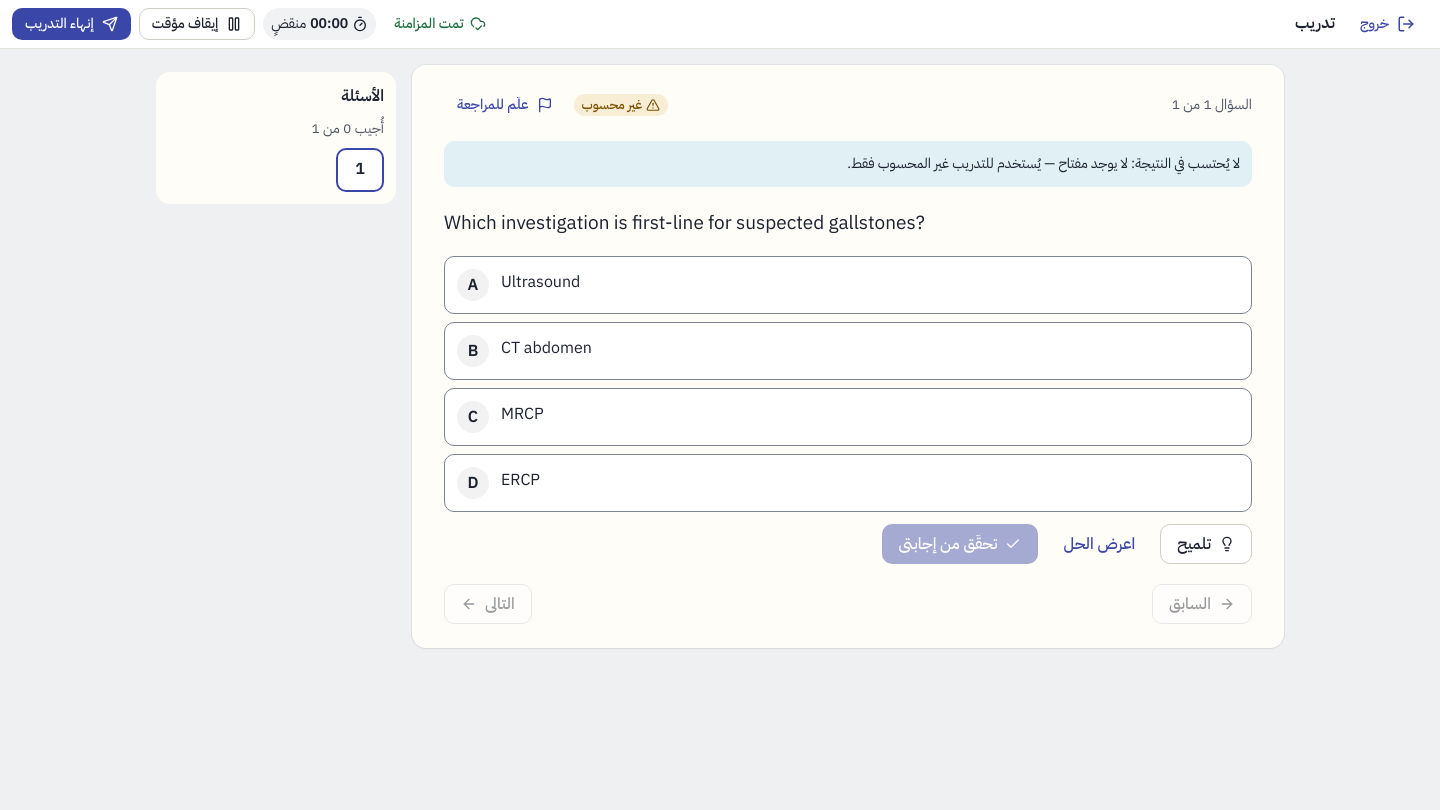
Scenario: checking a practice answer asks for its feedback once (the POST) — no racing GET; an unscored item says «غير محسوب»
This screenshot has width=1440, height=810.
What coordinates should you click on to do the following:
click the radio button labelled "A Ultrasound"
I would click on:
 (473, 285)
Its box is x1=444 y1=256 x2=1252 y2=314.
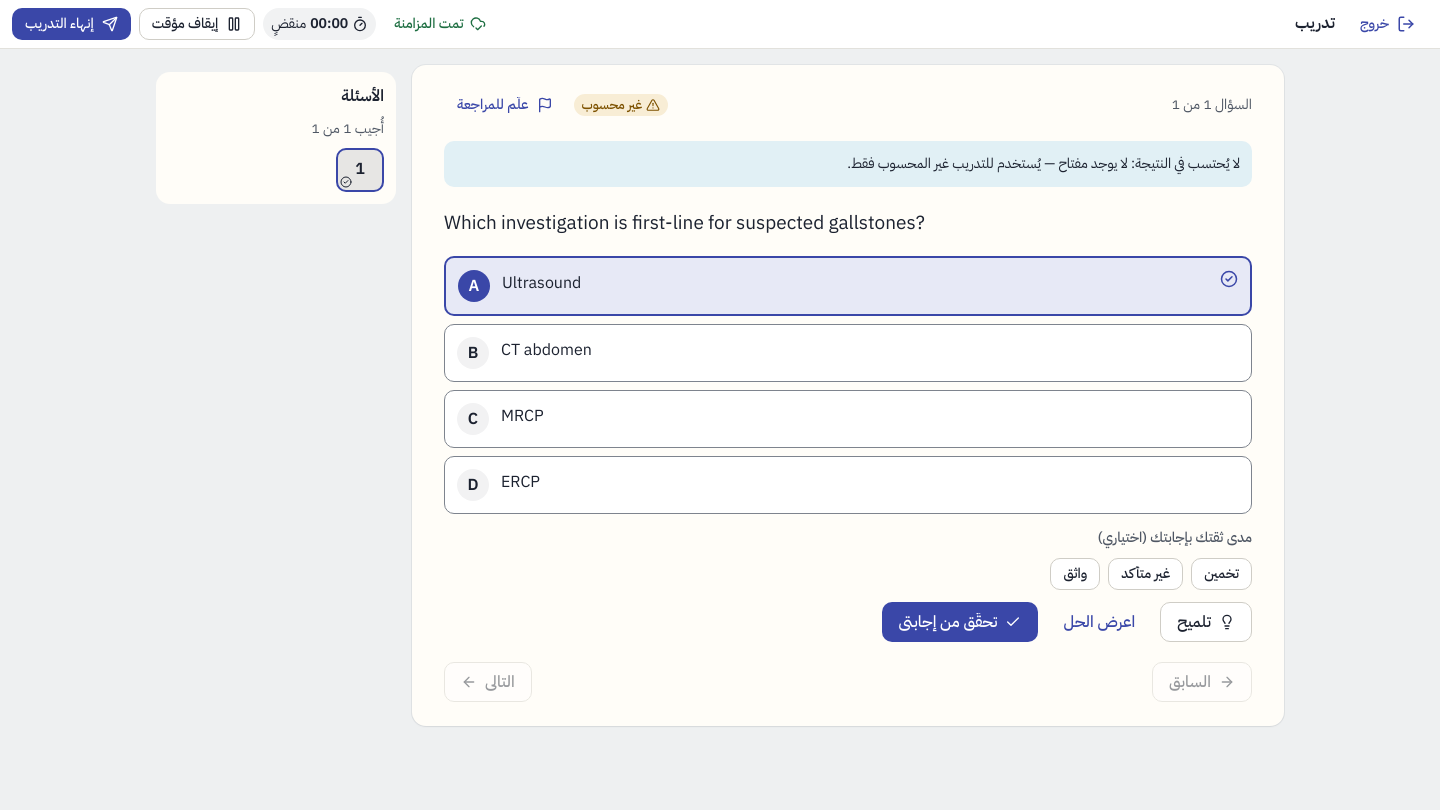
Result: the radio button labelled "A Ultrasound" is checked at x1=444 y1=256 x2=1252 y2=316
What coordinates should you click on to do the following:
click the button "تحقّق من إجابتي"
I would click on:
 (960, 622)
Its box is x1=882 y1=602 x2=1038 y2=642.
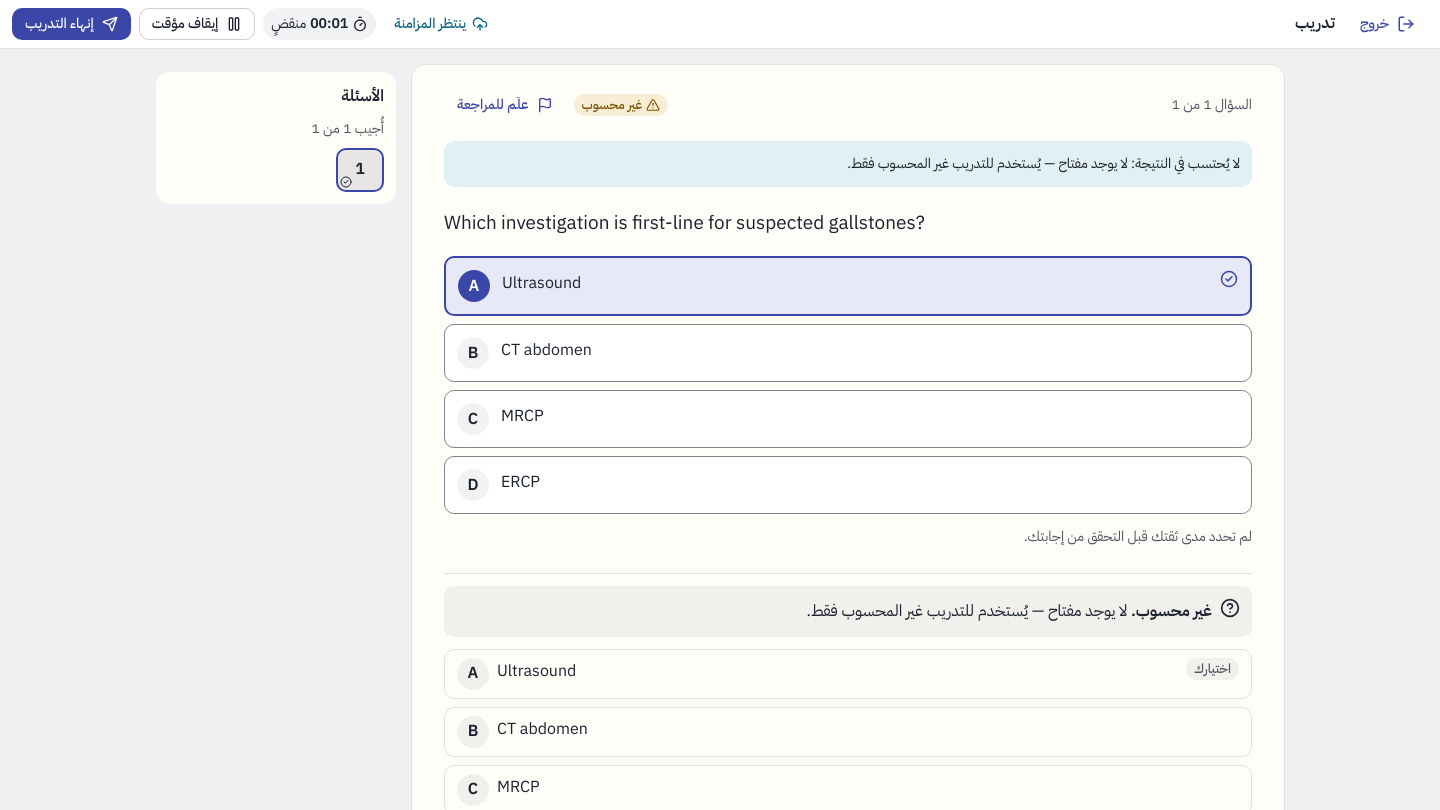
Result: the text "غير محسوب." is shown at x1=1131 y1=599 x2=1212 y2=623
Result: the text "لا يوجد مفتاح — يُستخدم للتدريب غير المحسوب فقط." is shown at x1=807 y1=599 x2=1127 y2=623
